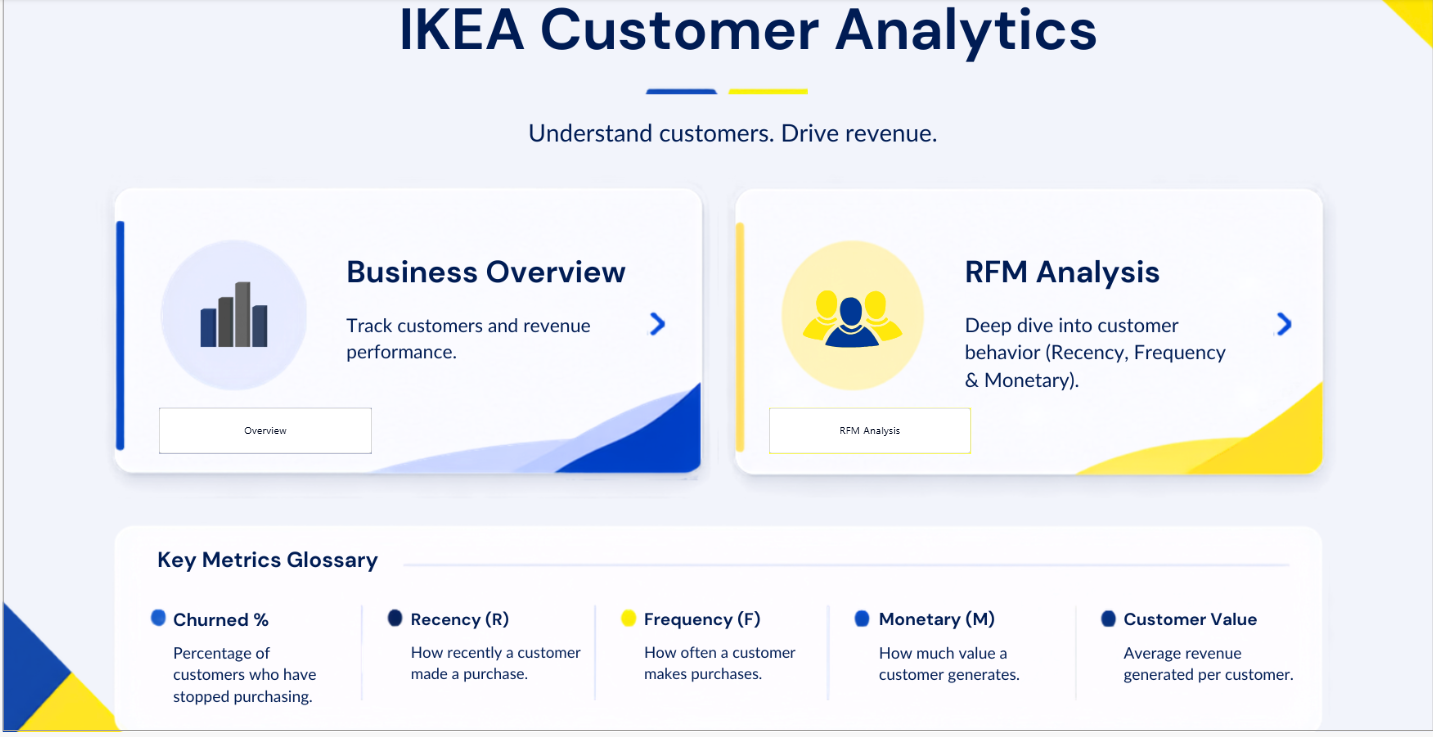

What the dashboard file says about the page in this screenshot:
{"tool":"powerbi","page":{"name":"Home","canvas":[1920,1080],"ordinal":0},"visuals":[{"type":"image","box":[10.9,0,1909.2,1064.1],"z":0},{"type":"pageNavigator","box":[220.8,631.6,284.1,61.5],"z":1000},{"type":"pageNavigator","box":[1033.3,631.6,269.6,61.5],"z":2000}]}

Visuals, with their boxes on the page's 1920x1080 design canvas (x1, y1, x2, y2). These are canvas units, not pixel positions in the 1433x737 screenshot, which may show the page scaled, cropped or inside an application window:
image: box(11, 0, 1920, 1064)
pageNavigator: box(221, 632, 505, 693)
pageNavigator: box(1033, 632, 1303, 693)
